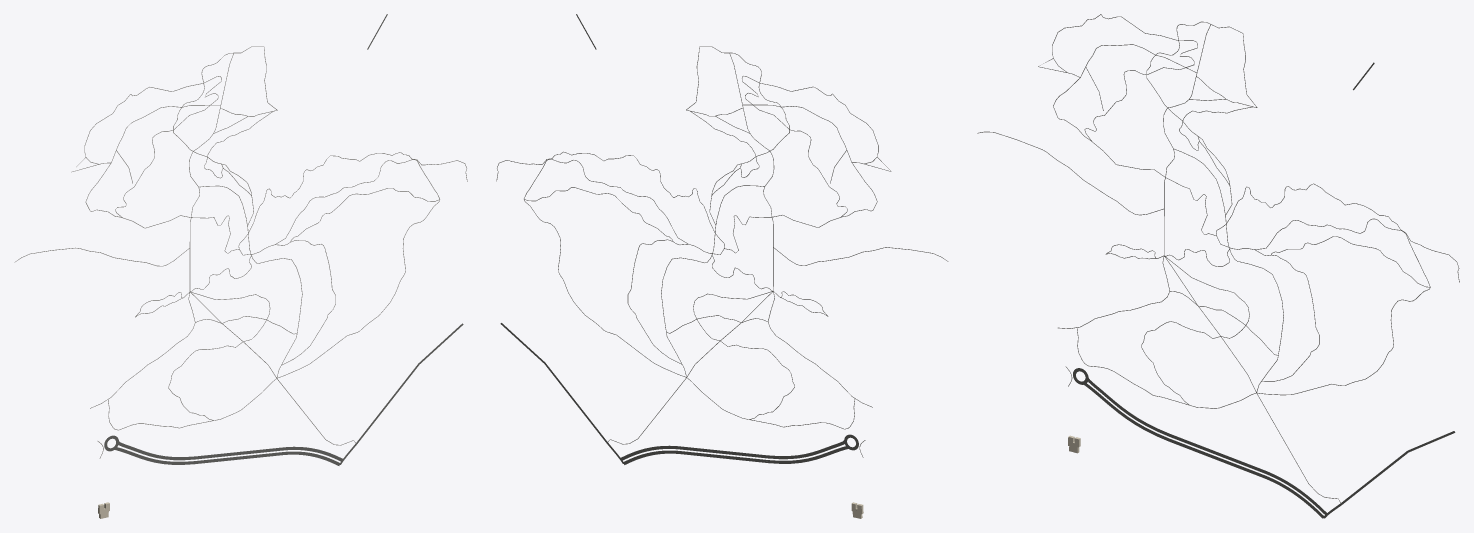
The model's file is historic-palestine-08_30_3504_3247.glb.
3 views of the same model, side by side, from view 1: azimuth 30°, elevation 25°; view 2: azimuth 150°, elevation 25°; view 3: azimuth 330°, elevation 25° (orthographic). The views are drawn at different scales.
Parts seen in each view (by area): view 1: Road 6353, Road 6353.002; view 2: Road 6353, Road 6353.002; view 3: Road 6353, Road 6353.002.
Part boxes in pixels (bbox=[...]): Road 6353: bbox=[115, 447, 340, 465]; Road 6353.002: bbox=[116, 441, 343, 461]; Road 6353: bbox=[623, 446, 849, 464]; Road 6353.002: bbox=[620, 440, 846, 460]; Road 6353: bbox=[1083, 381, 1323, 518]; Road 6353.002: bbox=[1086, 378, 1327, 515].
Size of the model in its own units: 1234 by 1148 by 8.7.
